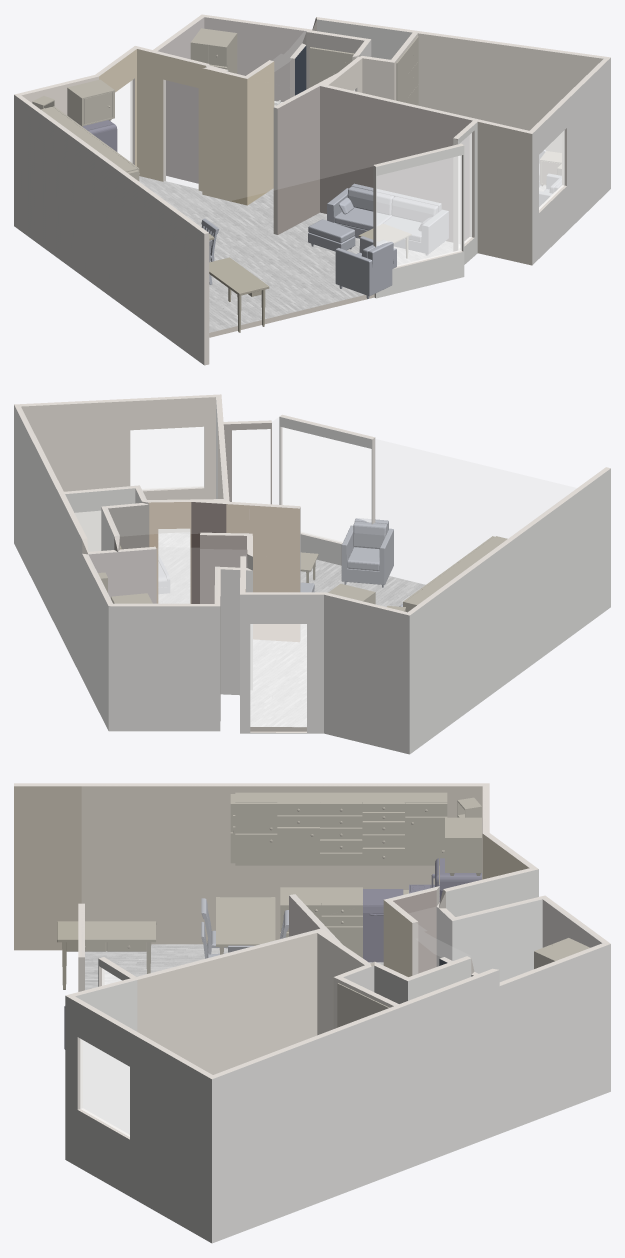
The picture shows the model from 3 angles, top to bottom: view 1: azimuth 30°, elevation 25°; view 2: azimuth 150°, elevation 25°; view 3: azimuth 270°, elevation 25°; orthographic projection. The views are drawn at different scales.
Parts seen in each view (by area): view 1: wall_3, ceiling_Living Room_0, ceiling_Bedroom_0, wall_72, wall_68, ceiling_Dining Room_0, floor_Living Room_0, wall_6, window_1, window_4, wall_74, ceiling_Kitchen_0 (+52 smaller); view 2: wall_3, ceiling_Living Room_0, ceiling_Bedroom_0, wall_10, ceiling_Dining Room_0, wall_26, wall_42, window_1, window_4, ceiling_Kitchen_0, ceiling_Bathroom_0, wall_19 (+40 smaller); view 3: wall_36, wall_19, ceiling_Living Room_0, ceiling_Bedroom_0, wall_6, wall_21, ceiling_Dining Room_0, wall_12, wall_16, storage_cabinet_mid50, ceiling_Kitchen_0, ceiling_Bathroom_0 (+31 smaller).
Boxes of the visible parts, left/top/right/bottom form: wall_3: left=14, top=95, right=204, bottom=364; ceiling_Living Room_0: left=139, top=85, right=472, bottom=212; ceiling_Bedroom_0: left=330, top=32, right=606, bottom=130; wall_72: left=323, top=87, right=472, bottom=242; wall_68: left=418, top=33, right=603, bottom=152; ceiling_Dining Room_0: left=83, top=69, right=302, bottom=180; floor_Living Room_0: left=209, top=212, right=452, bottom=332; wall_6: left=532, top=58, right=610, bottom=264; window_1: left=377, top=155, right=461, bottom=266; window_4: left=377, top=155, right=461, bottom=266; wall_74: left=477, top=122, right=532, bottom=265; ceiling_Kitchen_0: left=22, top=49, right=208, bottom=139; wall_3: left=409, top=468, right=610, bottom=754; ceiling_Living Room_0: left=224, top=416, right=576, bottom=520; ceiling_Bedroom_0: left=21, top=397, right=225, bottom=500; wall_10: left=108, top=606, right=220, bottom=731; ceiling_Dining Room_0: left=250, top=505, right=529, bottom=564; wall_26: left=324, top=594, right=409, bottom=754; wall_42: left=21, top=397, right=215, bottom=533; window_1: left=282, top=427, right=371, bottom=542; window_4: left=282, top=428, right=371, bottom=542; ceiling_Kitchen_0: left=246, top=556, right=471, bottom=611; ceiling_Bathroom_0: left=86, top=547, right=246, bottom=604; wall_19: left=14, top=405, right=58, bottom=631; wall_36: left=14, top=786, right=482, bottom=950; wall_19: left=212, top=1007, right=401, bottom=1243; ceiling_Living Room_0: left=82, top=786, right=323, bottom=977; ceiling_Bedroom_0: left=76, top=933, right=393, bottom=1074; wall_6: left=65, top=996, right=211, bottom=1243; wall_21: left=137, top=933, right=317, bottom=1074; ceiling_Dining Room_0: left=192, top=786, right=435, bottom=917; wall_12: left=499, top=944, right=610, bottom=1133; wall_16: left=401, top=970, right=499, bottom=1171; storage_cabinet_mid50: left=235, top=792, right=447, bottom=865; ceiling_Kitchen_0: left=331, top=786, right=527, bottom=890; ceiling_Bathroom_0: left=409, top=898, right=603, bottom=981.
Size of the model in its own units: 10.33 by 2.67 by 8.8.
104 materials, 8 textured.
